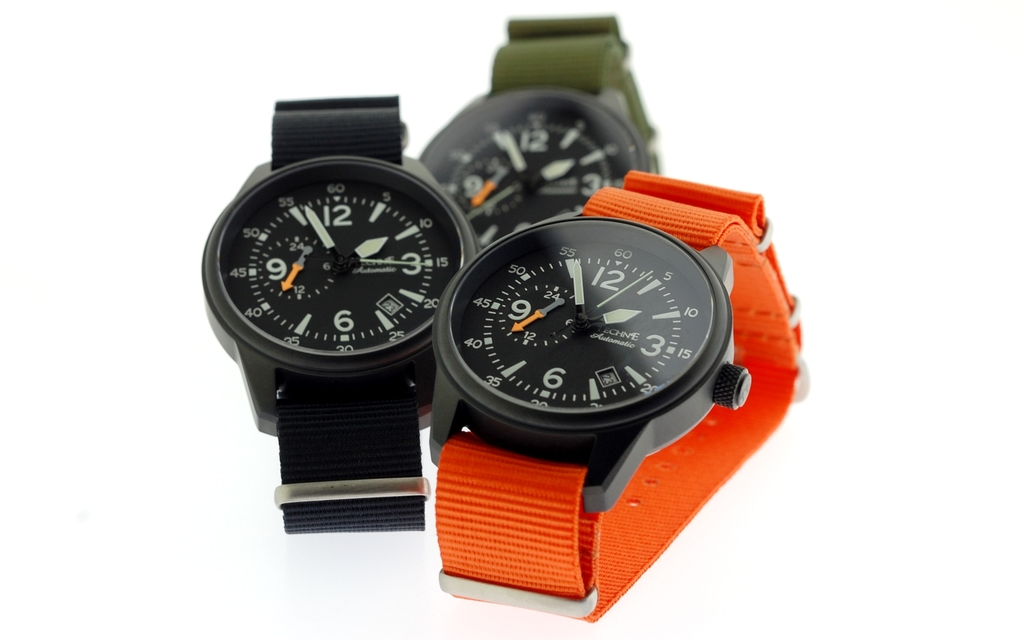watch: (437, 172, 802, 620), (199, 95, 471, 534)
